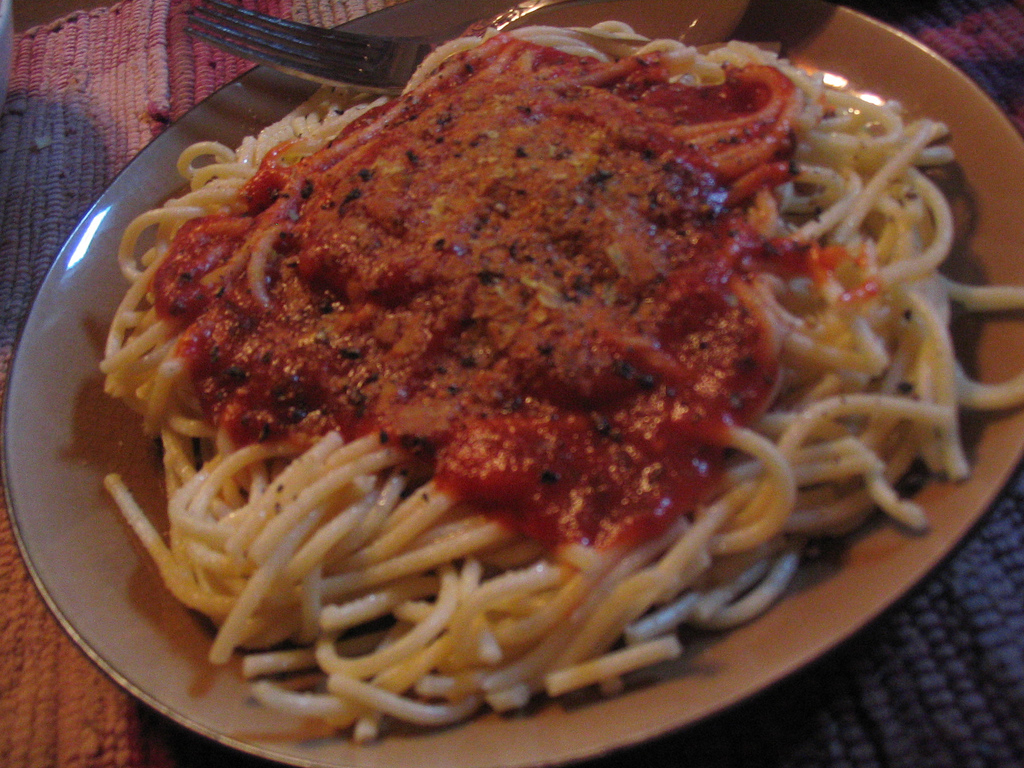plain spaghetti: (124, 62, 952, 636)
